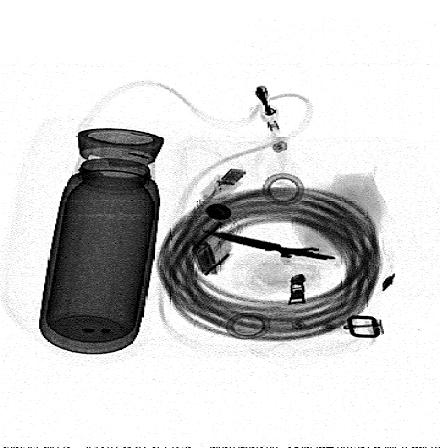Scissors: (204, 229, 355, 275)
